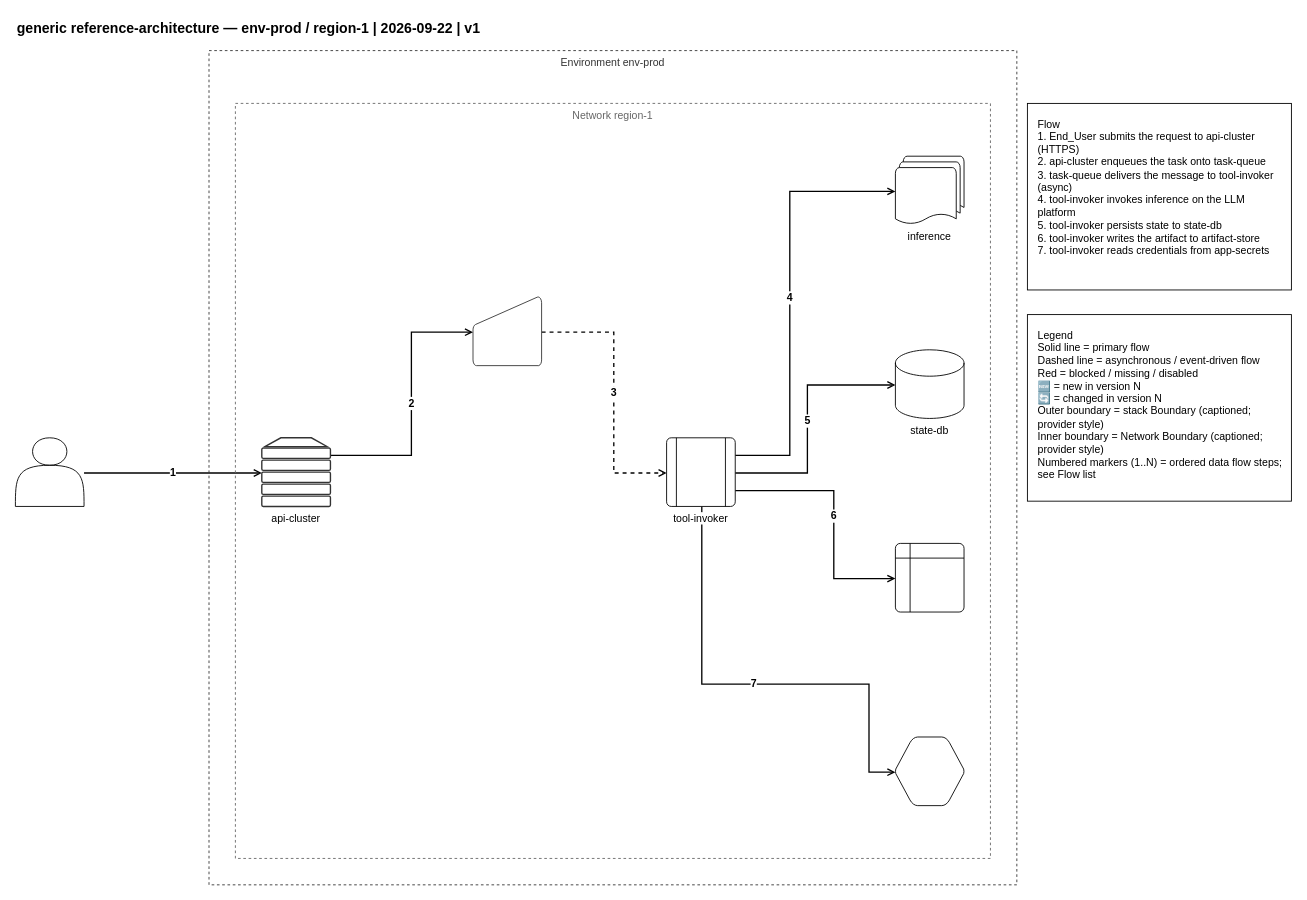
Image size: 1307x900. Some labels were removed from this diagram. Each missing label, with the centre of its shape:
app-secrets: the point at 929,771
artifact-store: the point at 929,577
End_User: the point at 49,471
task-queue: the point at 507,331
